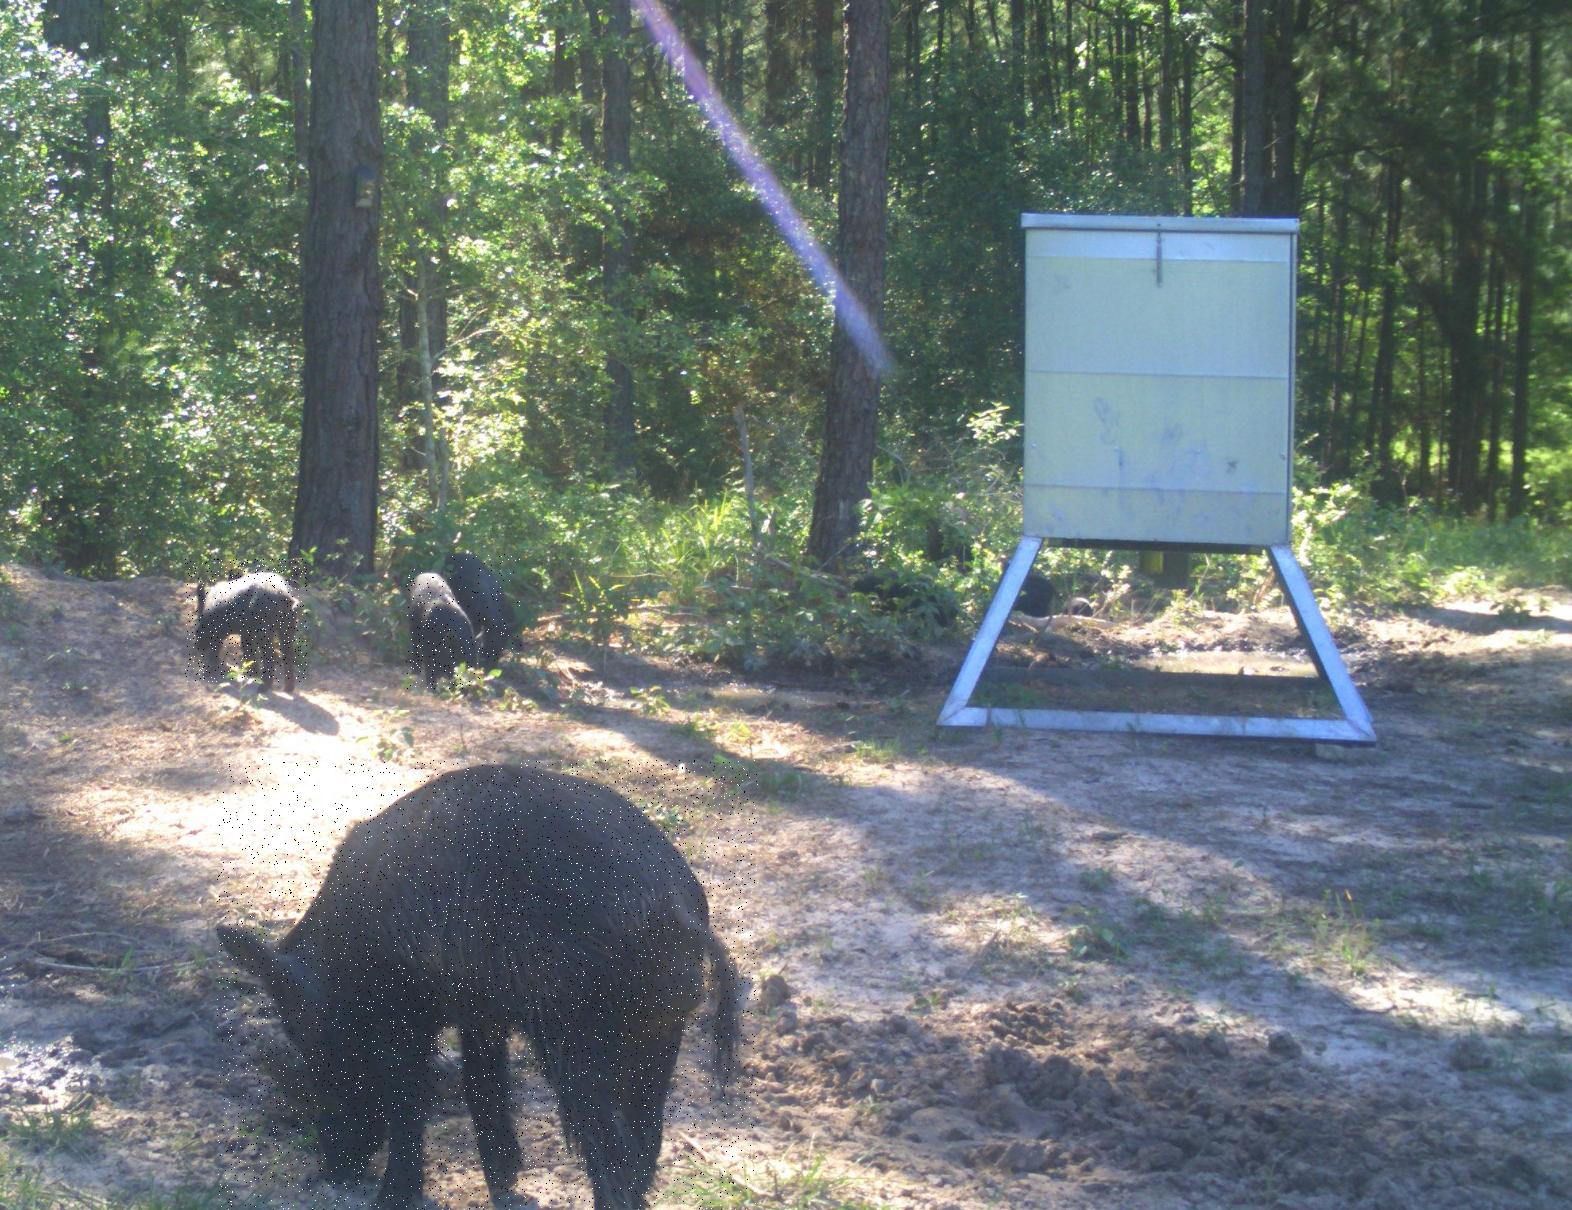Hog: (217, 759, 757, 1210), (186, 558, 308, 683), (405, 569, 480, 689), (452, 553, 522, 661)
